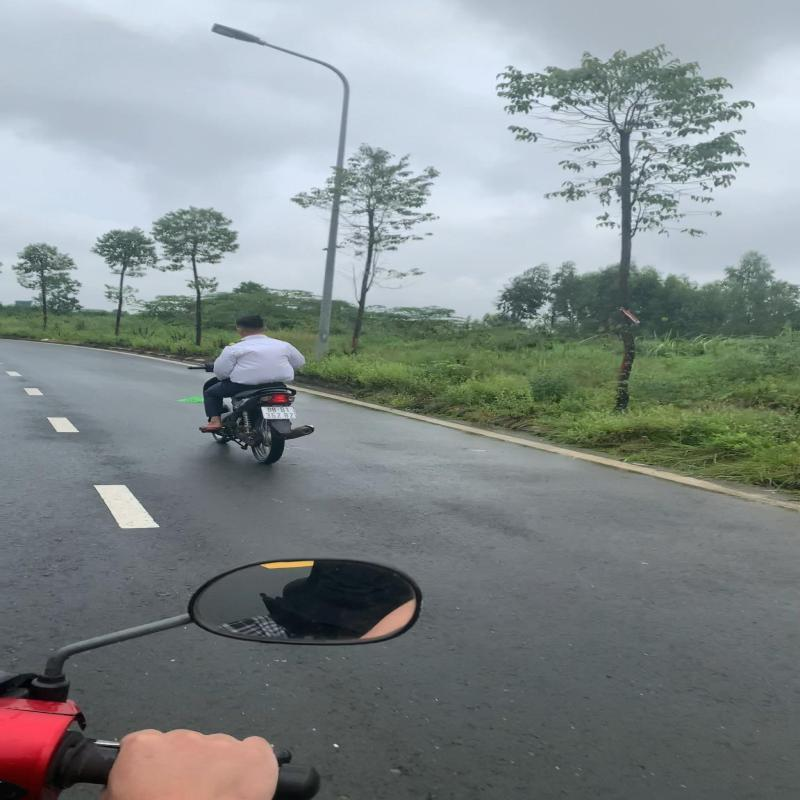licenseplate: (258, 404, 300, 420)
motorcyclist: (182, 312, 324, 469)
nohelmet: (234, 314, 272, 336)
